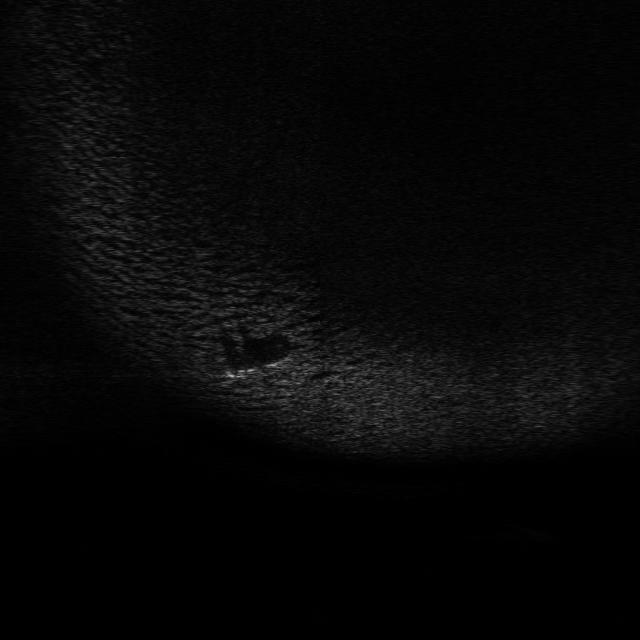plane: (214, 356, 298, 388)
